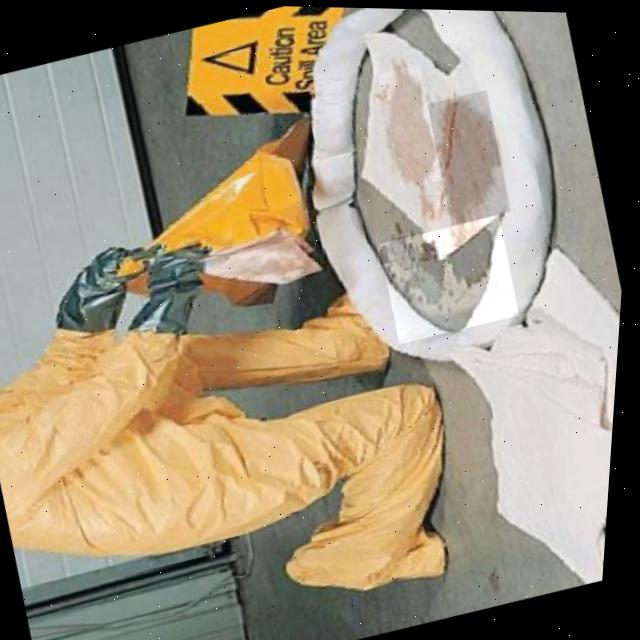spillage: (386, 213, 502, 326), (443, 93, 500, 220), (387, 67, 437, 181)
